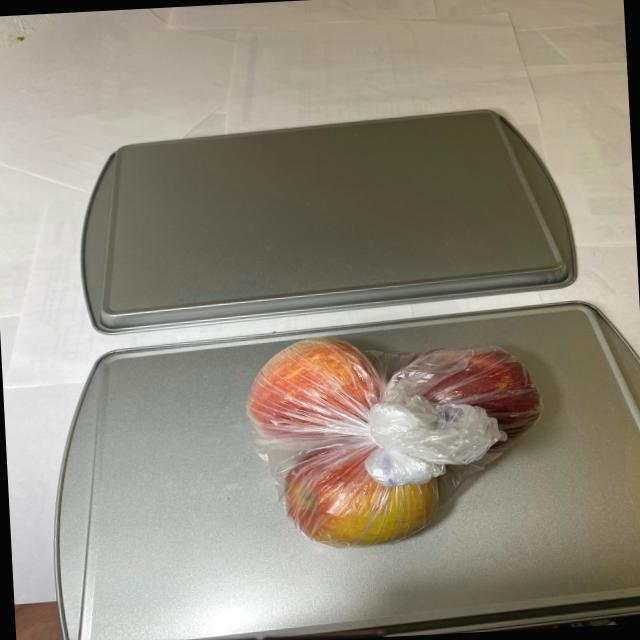apple: (235, 325, 551, 554)
